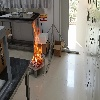fire: (32, 20, 43, 67)
